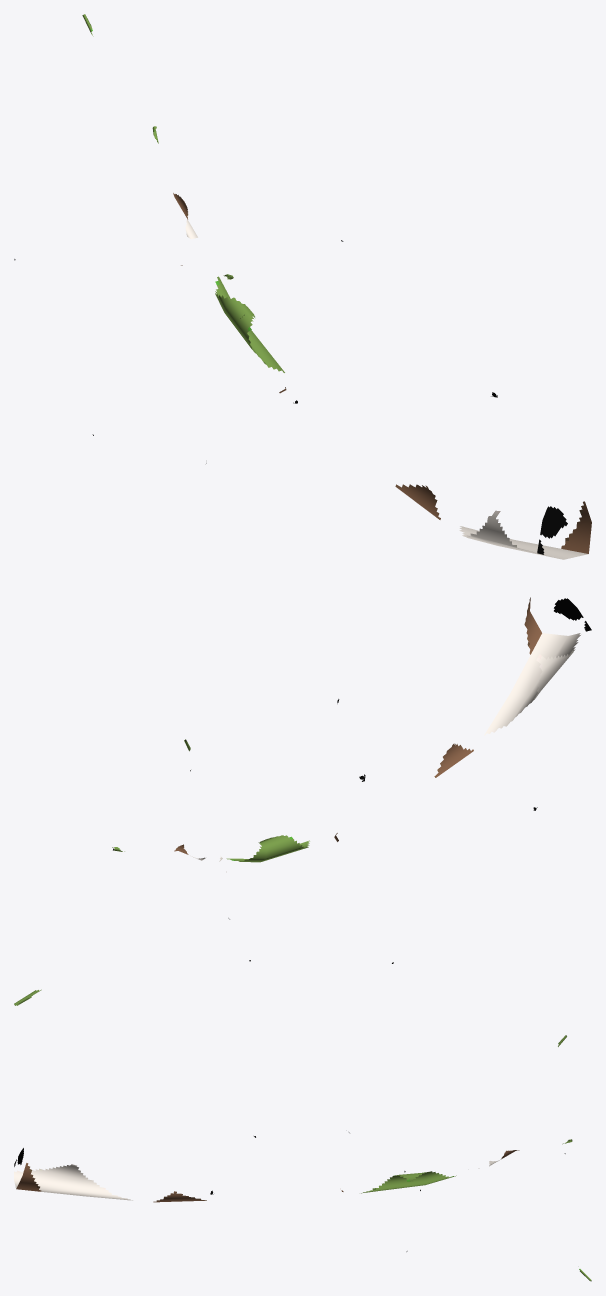
The model's file is Branch_1b.gltf.
3 views of the same model, one above another, from view 1: azimuth 30°, elevation 25°; view 2: azimuth 150°, elevation 25°; view 3: azimuth 270°, elevation 25° (orthographic). The views are drawn at different scales.
Visible parts, largest first — view 1: Branch_1b; view 2: Branch_1b; view 3: Branch_1b.
Boxes of the visible parts, box(x1,y1,x2,y2) form: Branch_1b: box(14, 14, 591, 559); Branch_1b: box(14, 597, 591, 1005); Branch_1b: box(14, 1035, 591, 1281).
Size of the model in its own units: 69.4 by 70.4 by 187.
1 material, 1 textured.
